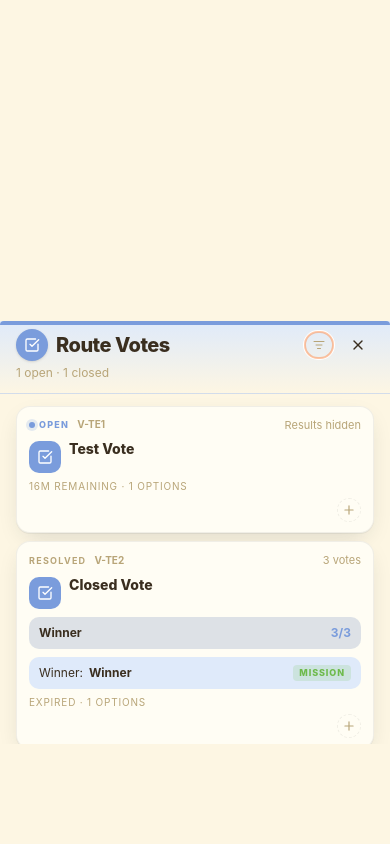
it: RouteVotePanel › clicking a vote shows VoteDetail
Click the text "Test Vote" at (102, 449), box [69, 439, 134, 458]
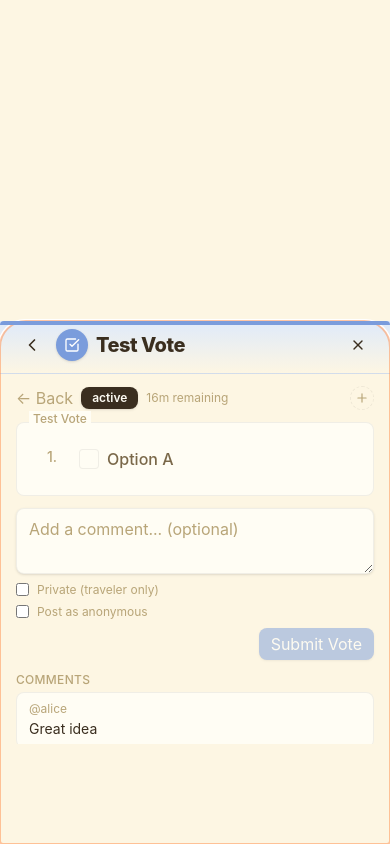
Expected: the heading "Test Vote" is shown, [96, 331, 185, 359]
